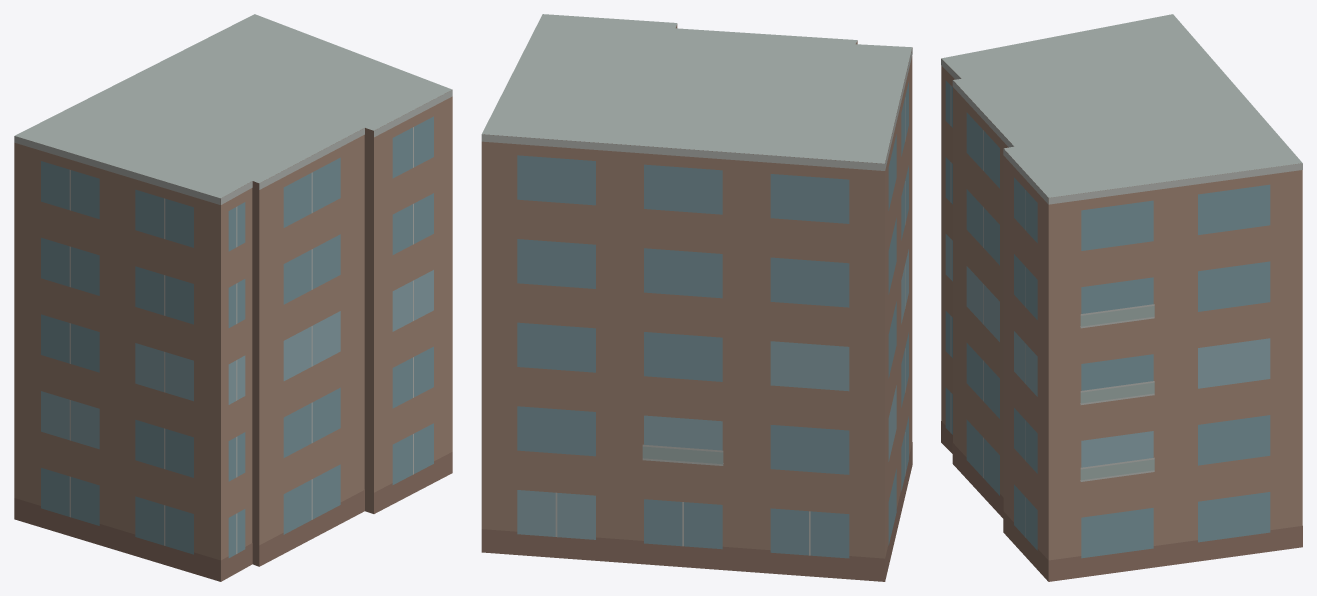
The model's file is survey-upis-32842358.glb.
3 views of the same model, side by side, from view 1: azimuth 30°, elevation 25°; view 2: azimuth 150°, elevation 25°; view 3: azimuth 270°, elevation 25° (orthographic). The views are drawn at different scales.
Visible parts, largest first — view 1: survey-upis-32842358.tmp; view 2: survey-upis-32842358.tmp; view 3: survey-upis-32842358.tmp.
Boxes of the visible parts, bbox=[...] form: survey-upis-32842358.tmp: bbox=[14, 14, 452, 581]; survey-upis-32842358.tmp: bbox=[481, 14, 912, 581]; survey-upis-32842358.tmp: bbox=[941, 14, 1302, 581].
Bounding box in the file's own units: 14.12 × 13.75 × 11.74.
